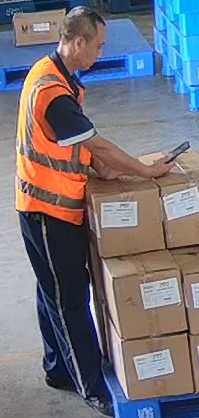hand: (145, 152, 177, 180)
phone: (160, 136, 191, 163)
